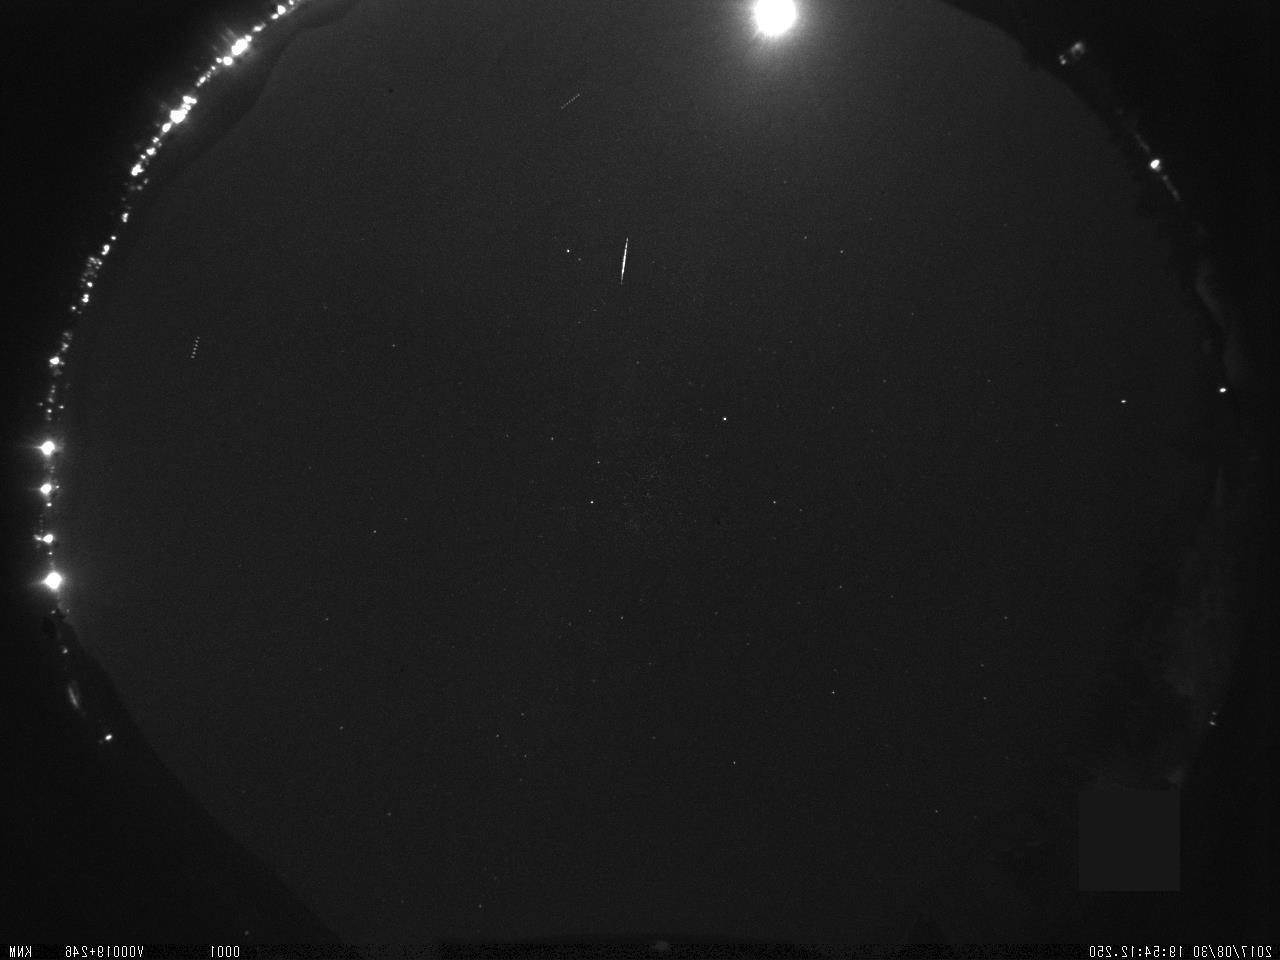meteor: (609, 235, 638, 284)
